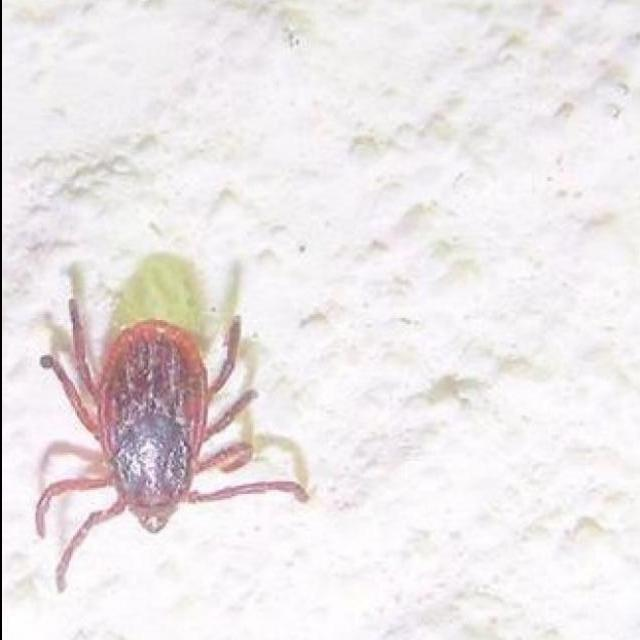Rhipicephalus Sanguineus-F: (34, 297, 308, 593)
